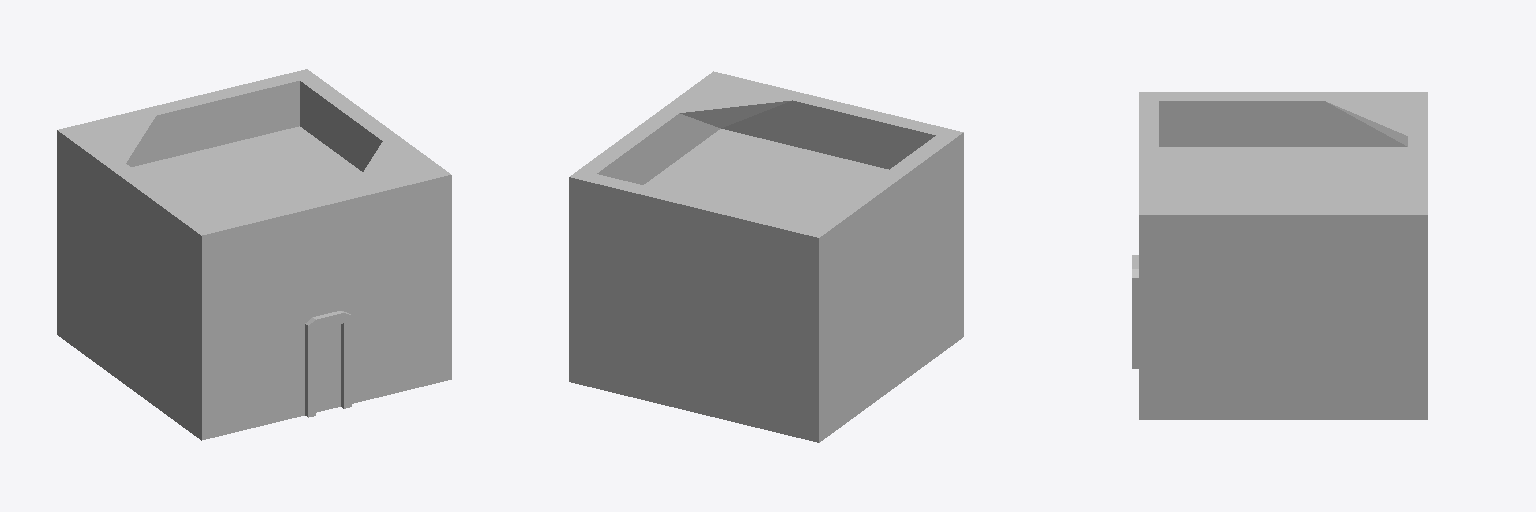
The model's file is openroofancient.obj.
3 views of the same model, side by side, from view 1: azimuth 30°, elevation 25°; view 2: azimuth 150°, elevation 25°; view 3: azimuth 270°, elevation 25° (orthographic).
Visible parts, largest first — view 1: Cube; view 2: Cube; view 3: Cube.
Boxes of the visible parts, x1,y1,x2,y2 form: Cube: [57, 69, 451, 440]; Cube: [569, 71, 963, 442]; Cube: [1132, 92, 1427, 419].
Bounding box in the file's own units: 5.16 × 4.04 × 5.28.